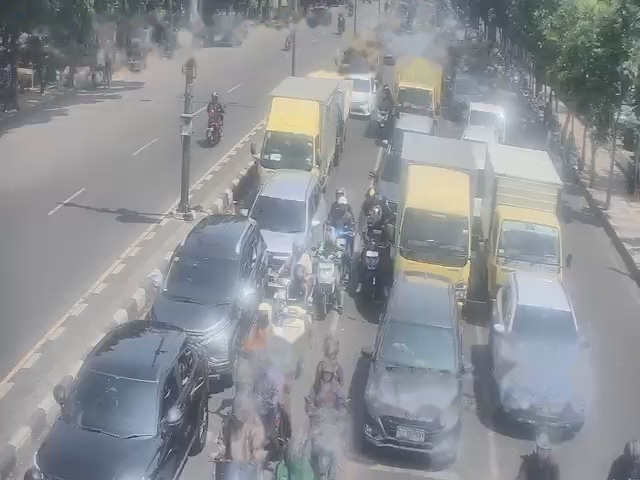Mobil: (50, 323, 204, 480), (147, 214, 267, 383), (365, 284, 456, 455), (501, 268, 589, 425), (248, 172, 326, 279), (393, 56, 441, 118), (468, 102, 505, 142), (349, 74, 375, 116)
Motor: (314, 260, 334, 308), (270, 282, 287, 319), (366, 245, 377, 276)
Truk: (397, 141, 483, 293), (491, 149, 565, 282), (256, 75, 340, 190)
